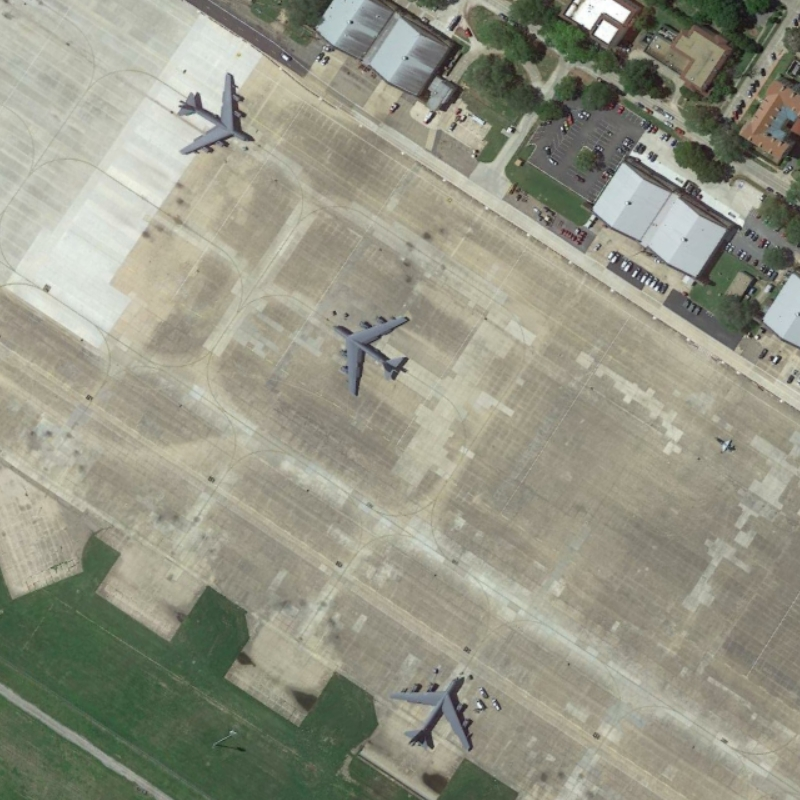A8: (378, 667, 482, 758), (325, 310, 419, 403), (171, 68, 263, 159)
